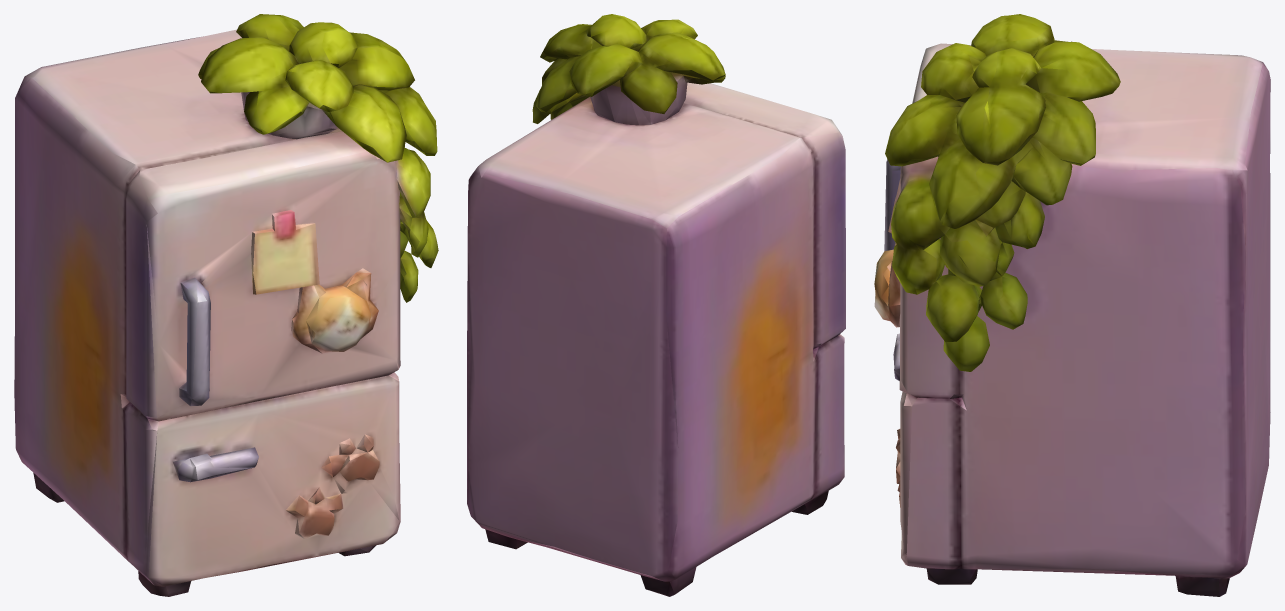
The model's file is appl12.glb.
The picture shows the model from 3 angles, left to right: view 1: azimuth 30°, elevation 25°; view 2: azimuth 150°, elevation 25°; view 3: azimuth 270°, elevation 25°; orthographic projection. The views are drawn at different scales.
Bounding box in the file's own units: 0.1962 × 0.3096 × 0.2108.
Materials: 1 (1 with a texture image).
